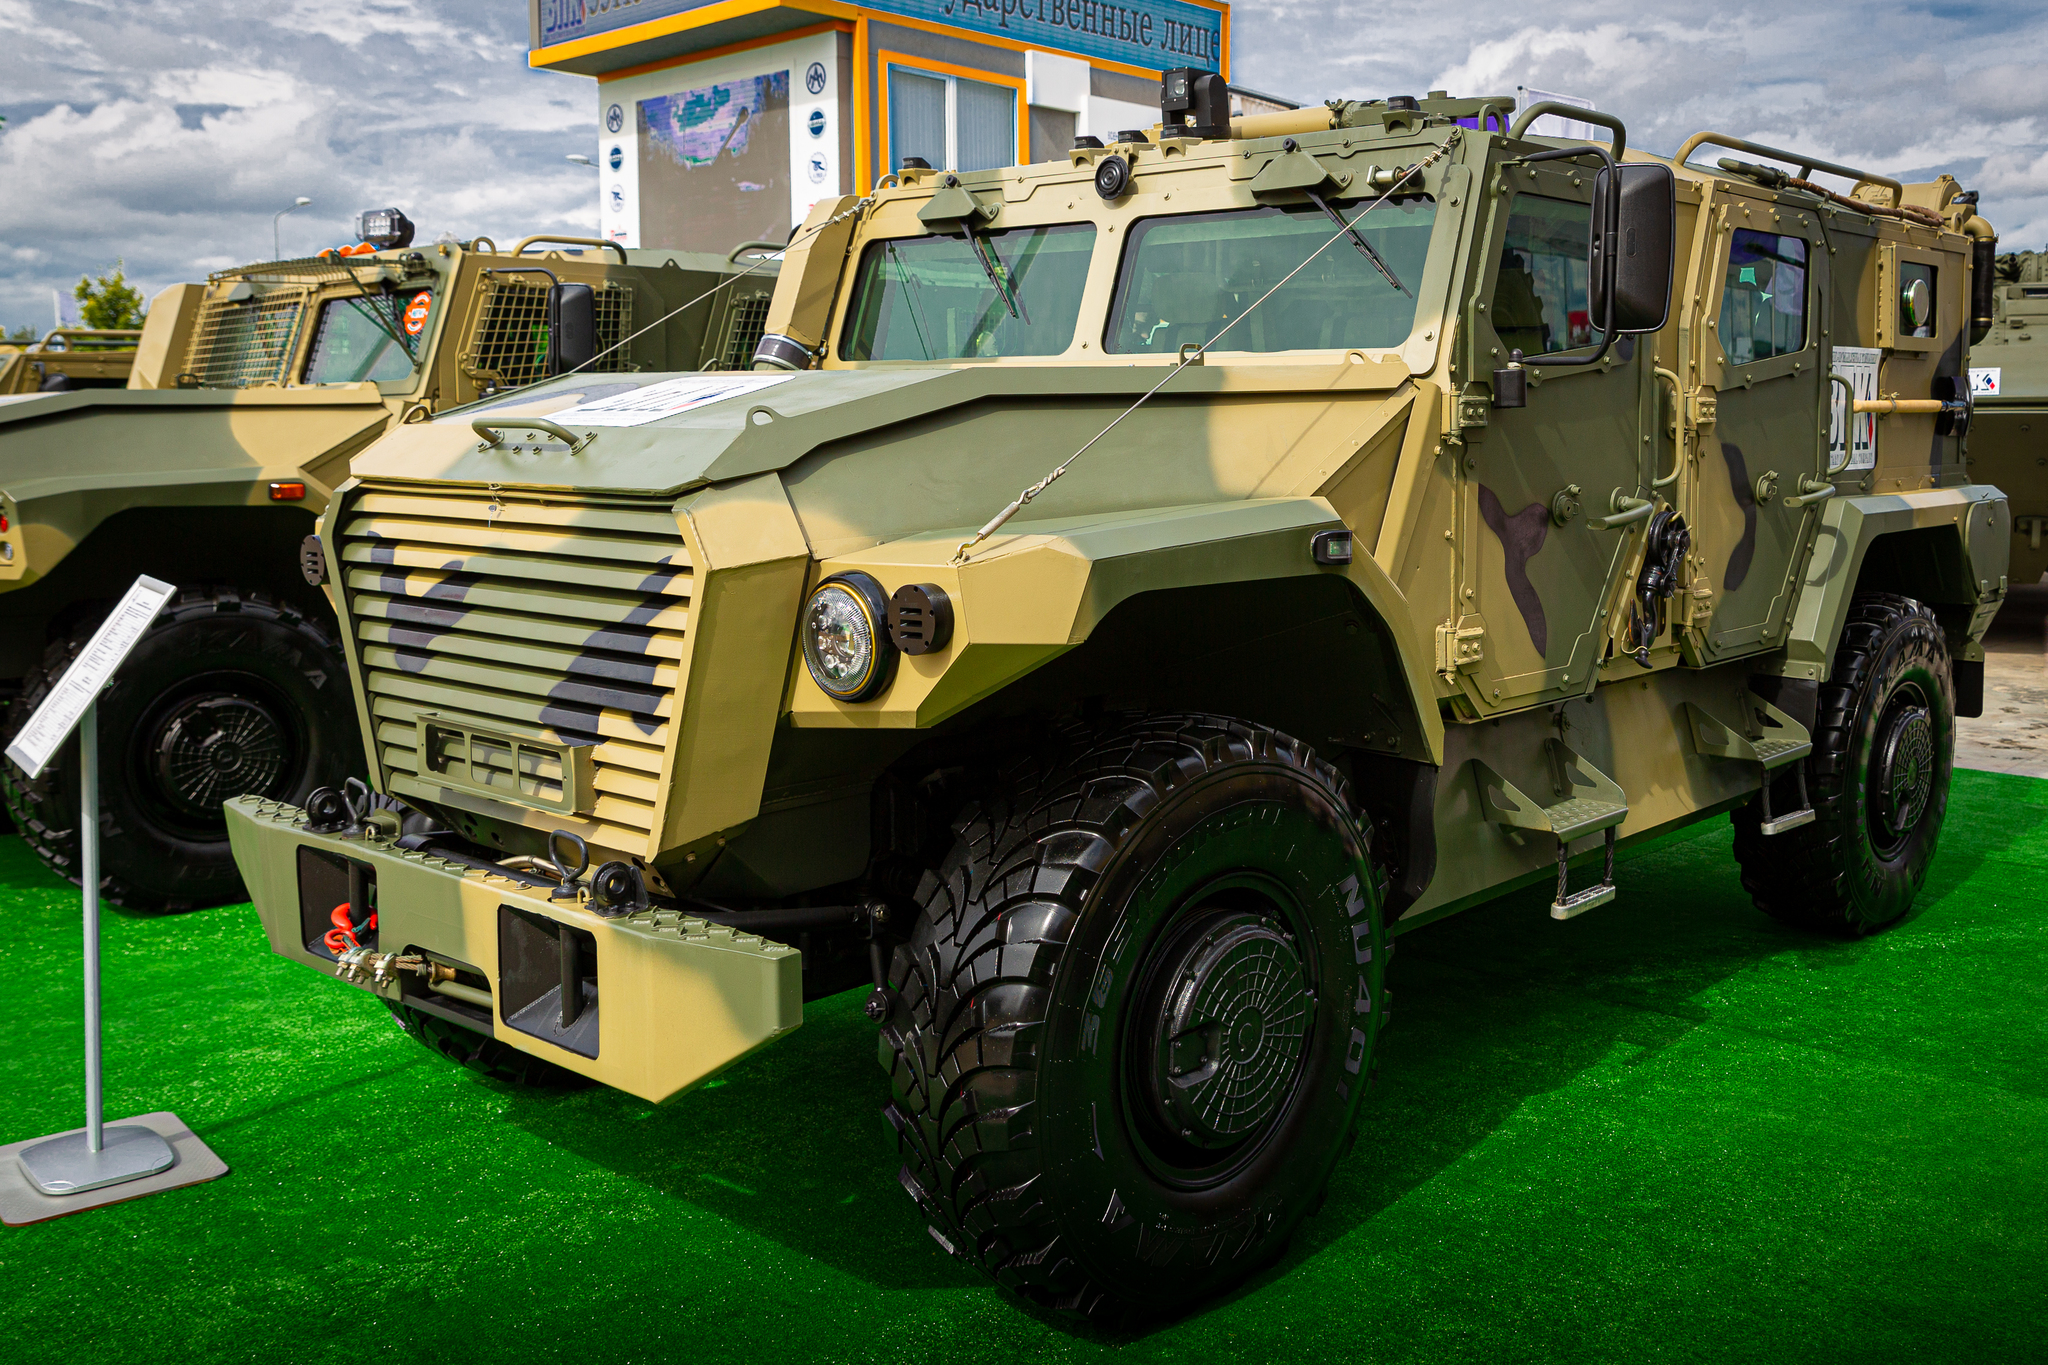warauto: (254, 117, 2011, 1335), (14, 221, 830, 909)
